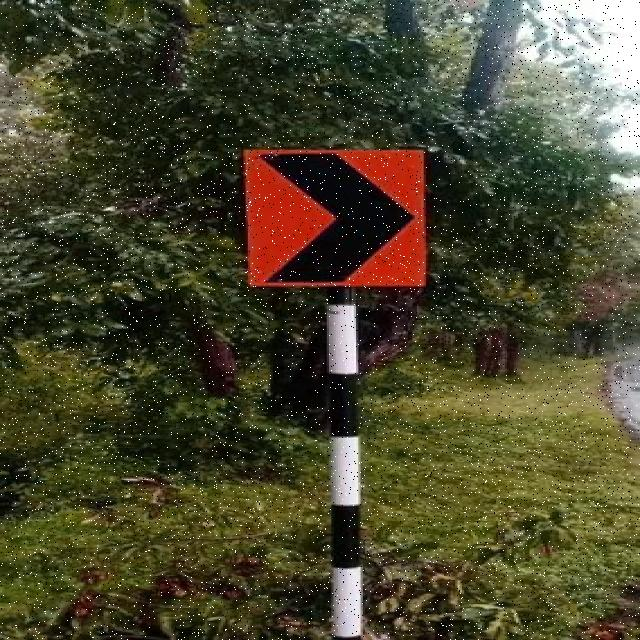chevron_right: (245, 151, 428, 288)
